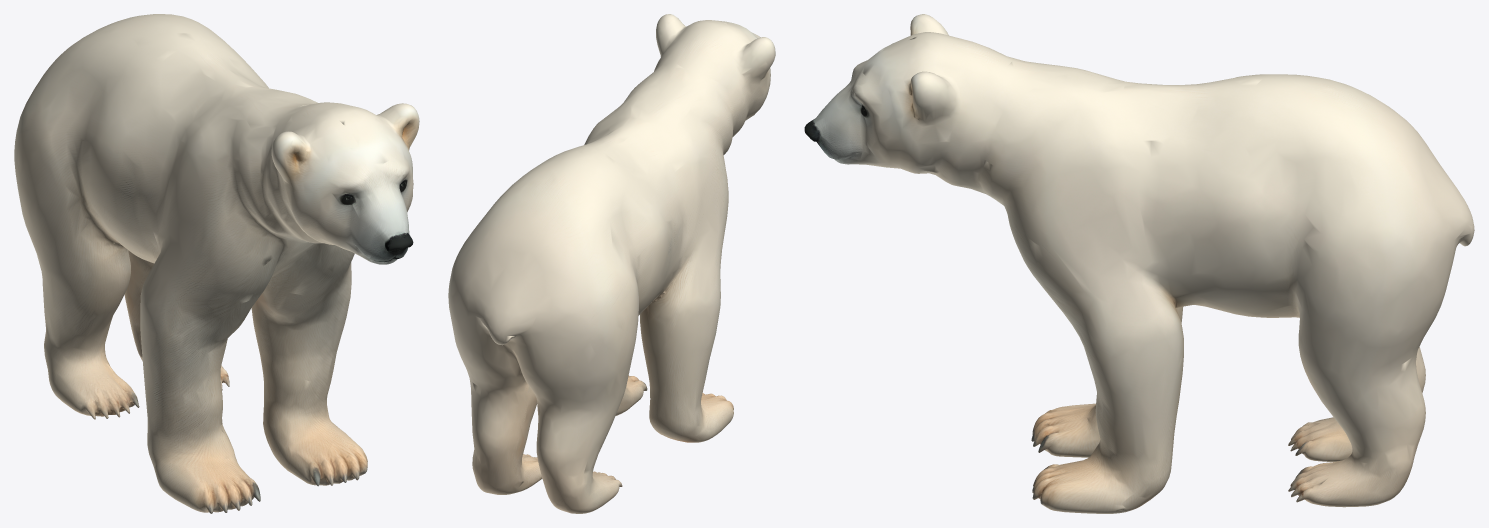
The model's file is polar_bear_cub.glb.
3 views of the same model, side by side, from view 1: azimuth 30°, elevation 25°; view 2: azimuth 150°, elevation 25°; view 3: azimuth 270°, elevation 25° (orthographic). The views are drawn at different scales.
Bounding box in the file's own units: 0.7049 × 1.36 × 1.9.
Materials: 1 (1 with a texture image).
